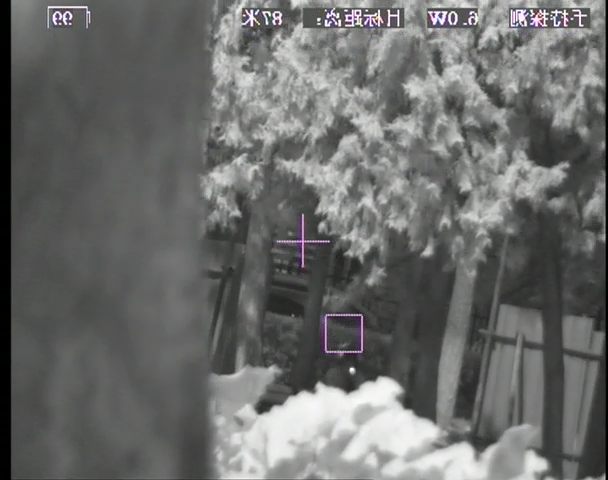my: (348, 367, 358, 377)
